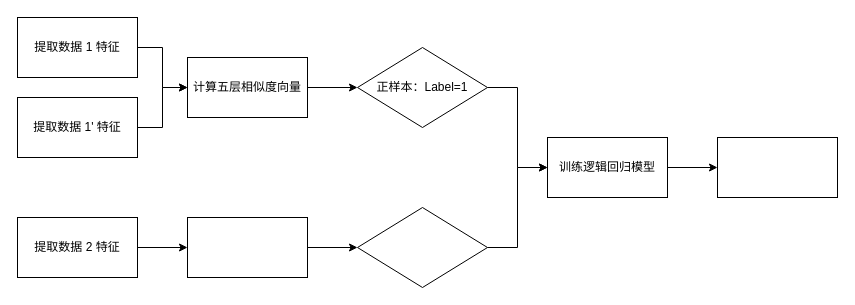
The diagram is 855 pixels wide and 305 high, and some of its shapes have lost their labels. The shapes that lost their labels are listed below. From the top down, each one's centre as x and y in pixels, then its label:
At (777,167): "获得权重 W i".
At (247,247): "计算相似度".
At (422,247): "负样本：Label=0".
